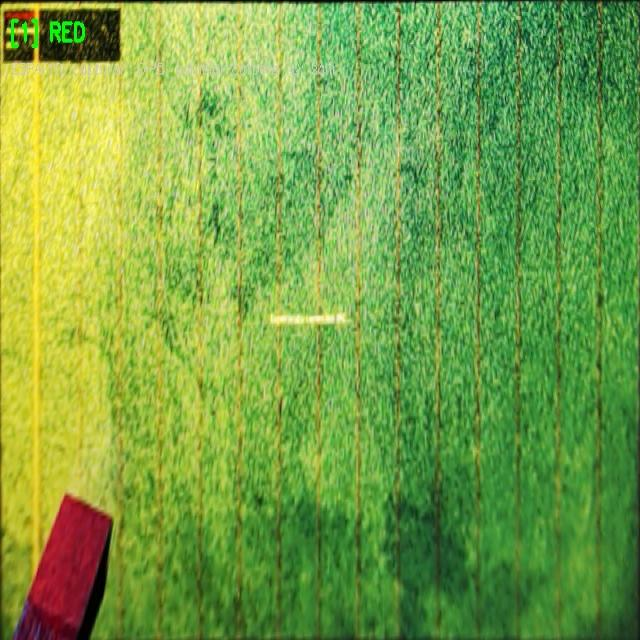red: (13, 495, 111, 639)
